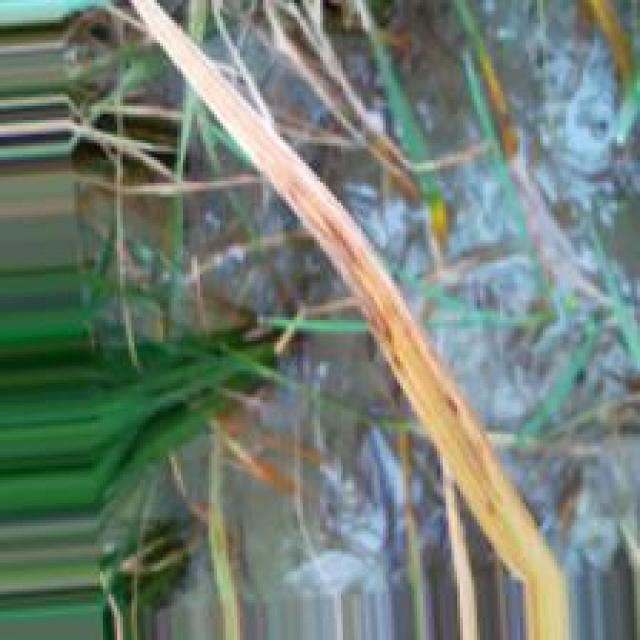Bacterial_Leaf_Blight: (131, 0, 526, 505)
